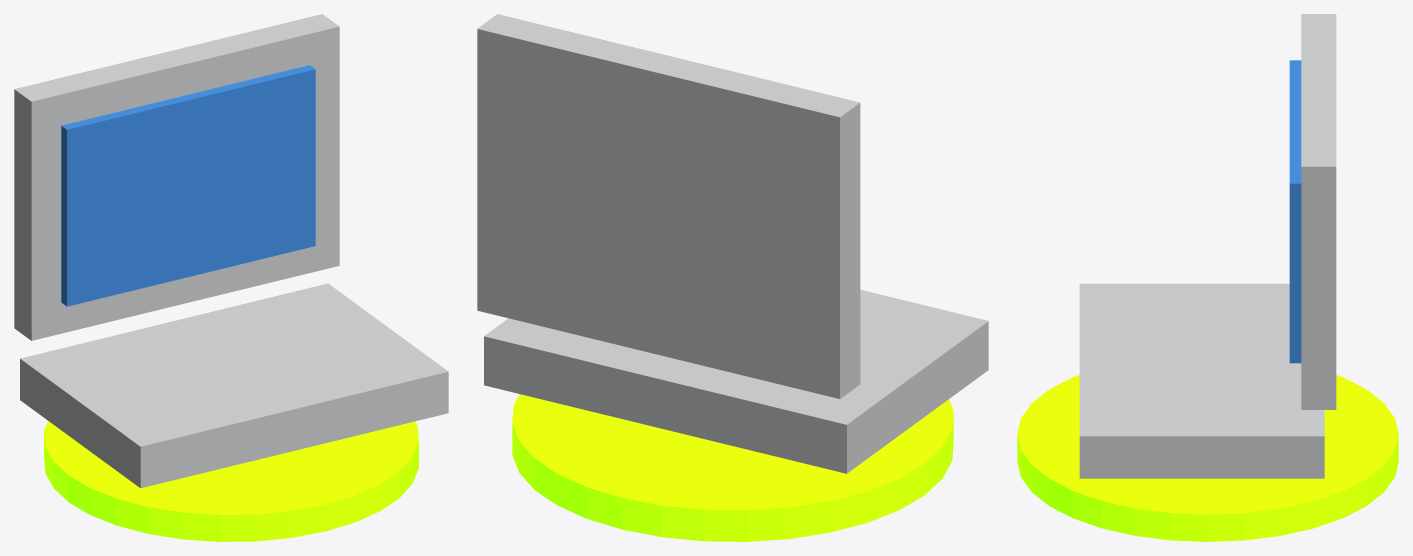
The model's file is tech_laptop.glb.
The picture shows the model from 3 angles, left to right: view 1: azimuth 30°, elevation 25°; view 2: azimuth 150°, elevation 25°; view 3: azimuth 270°, elevation 25°; orthographic projection. The views are drawn at different scales.
Visible parts, largest first — view 1: 08_02_Popular_Tech_Laptop_part_01, 08_02_Popular_Tech_Laptop_part_03, 08_02_Popular_Tech_Laptop_part_02, 08_02_Popular_Tech_Laptop_ROOT_base; view 2: 08_02_Popular_Tech_Laptop_part_02, 08_02_Popular_Tech_Laptop_part_01, 08_02_Popular_Tech_Laptop_ROOT_base; view 3: 08_02_Popular_Tech_Laptop_part_01, 08_02_Popular_Tech_Laptop_ROOT_base, 08_02_Popular_Tech_Laptop_part_02, 08_02_Popular_Tech_Laptop_part_03.
Part boxes in pixels (x1=…): 08_02_Popular_Tech_Laptop_part_01: x1=20, y1=283, x2=448, y2=488; 08_02_Popular_Tech_Laptop_part_03: x1=61, y1=65, x2=315, y2=306; 08_02_Popular_Tech_Laptop_part_02: x1=14, y1=14, x2=339, y2=340; 08_02_Popular_Tech_Laptop_ROOT_base: x1=44, y1=421, x2=418, y2=541; 08_02_Popular_Tech_Laptop_part_02: x1=477, y1=14, x2=860, y2=398; 08_02_Popular_Tech_Laptop_part_01: x1=484, y1=289, x2=988, y2=473; 08_02_Popular_Tech_Laptop_ROOT_base: x1=512, y1=394, x2=953, y2=541; 08_02_Popular_Tech_Laptop_part_01: x1=1079, y1=283, x2=1324, y2=478; 08_02_Popular_Tech_Laptop_ROOT_base: x1=1017, y1=375, x2=1398, y2=541; 08_02_Popular_Tech_Laptop_part_02: x1=1301, y1=14, x2=1336, y2=409; 08_02_Popular_Tech_Laptop_part_03: x1=1289, y1=60, x2=1301, y2=363.
Bounding box in the file's own units: 0.76 × 0.8152 × 0.76.
